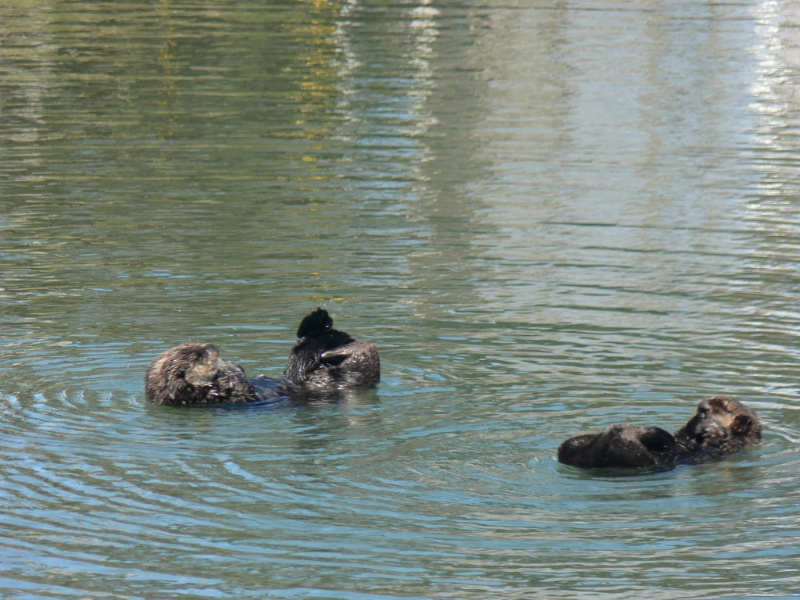minkish: (133, 311, 387, 422), (549, 394, 769, 489)
